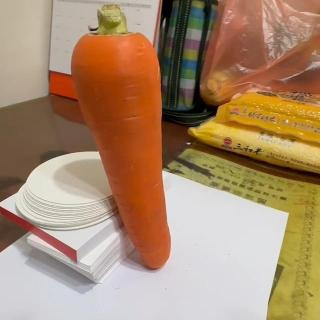carrot: (69, 2, 172, 270)
